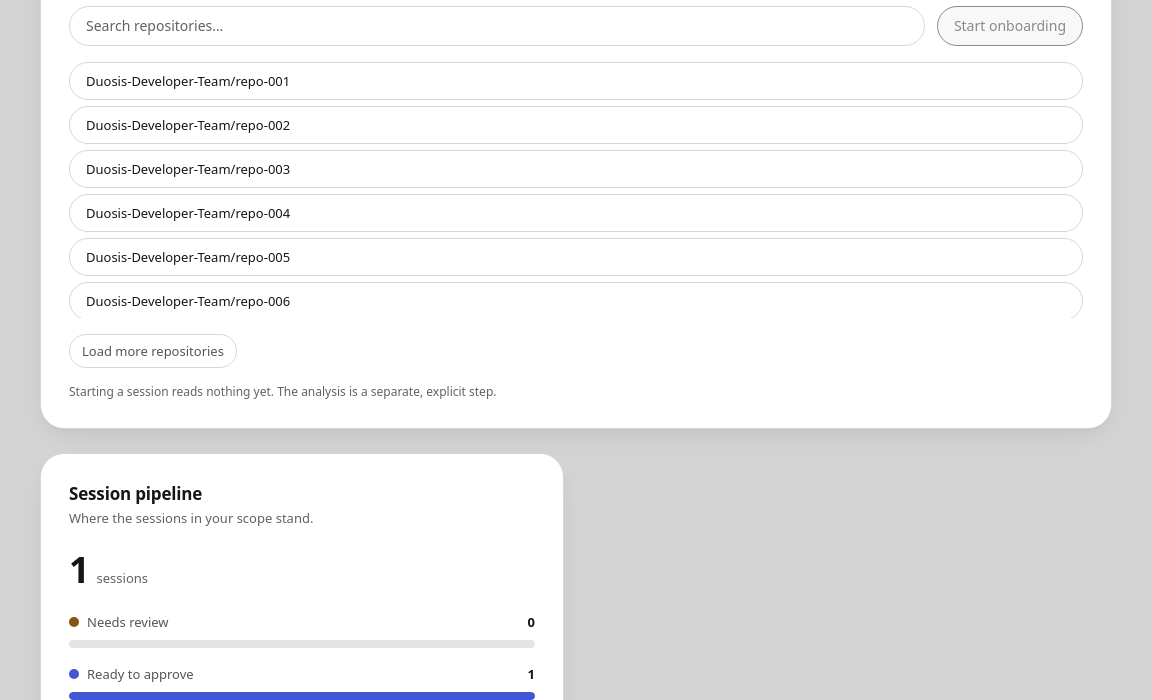
Test: repository picker pagination and search › reaches a repository past the first page
The width and height of the screenshot is (1152, 700).
(page scrolled)
Expected: the button with test id "repository-option-repo-1" is shown, [69, 62, 1083, 100]
Click the button with test id "repository-load-more". click: (153, 351)
box: [69, 334, 237, 368]
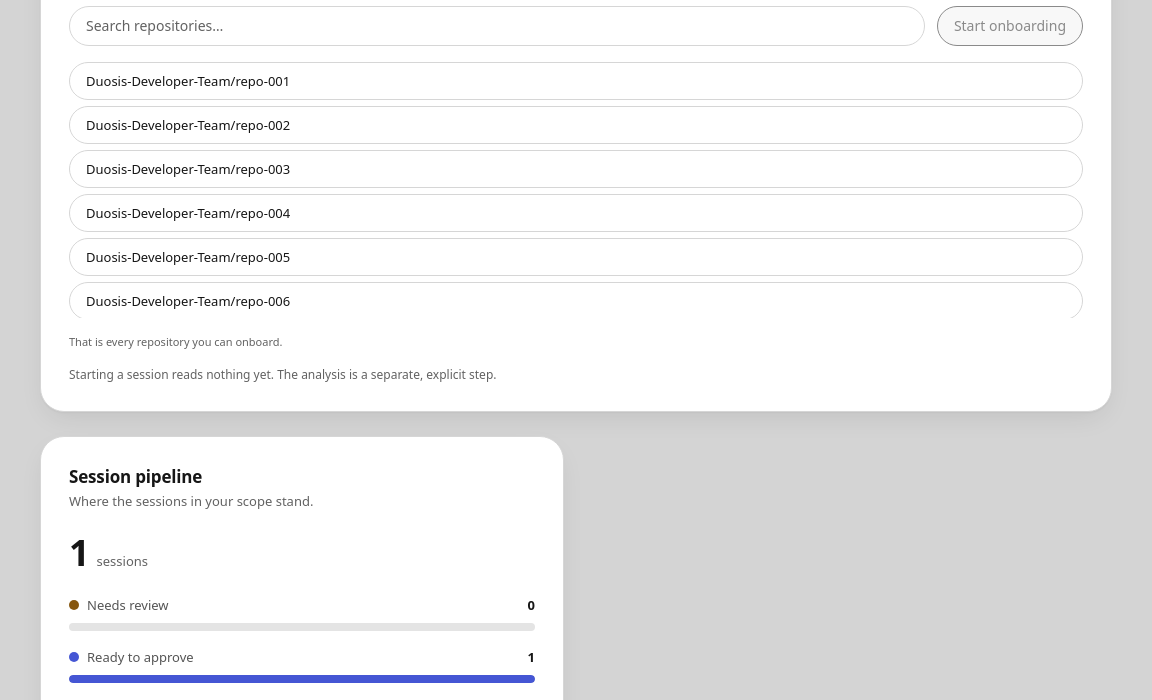
Expected: the button with test id "repository-option-repo-1" is shown, [69, 62, 1083, 100]
Expected: the text "That is every repository you can onboard." is shown, [69, 334, 282, 349]
